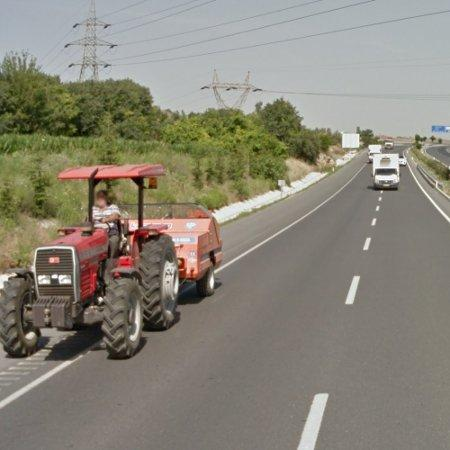tractors: (0, 164, 180, 359)
